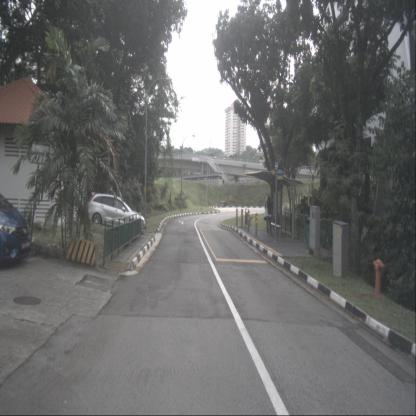human-pedestrian-adult: (263, 195, 273, 235)
vehicle-car: (87, 192, 146, 236), (0, 191, 31, 270)
